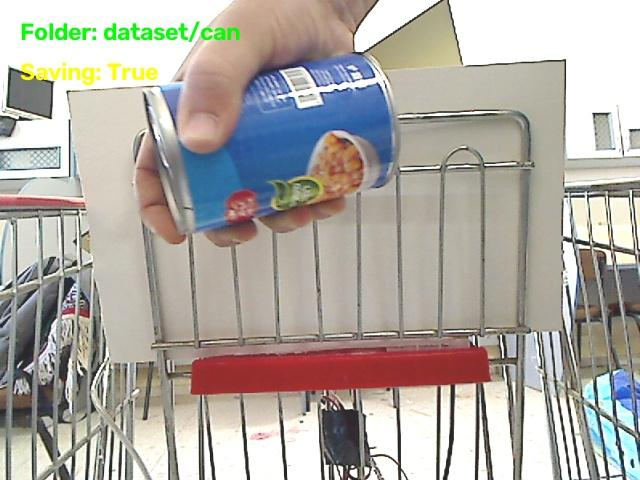can: (144, 54, 398, 232)
